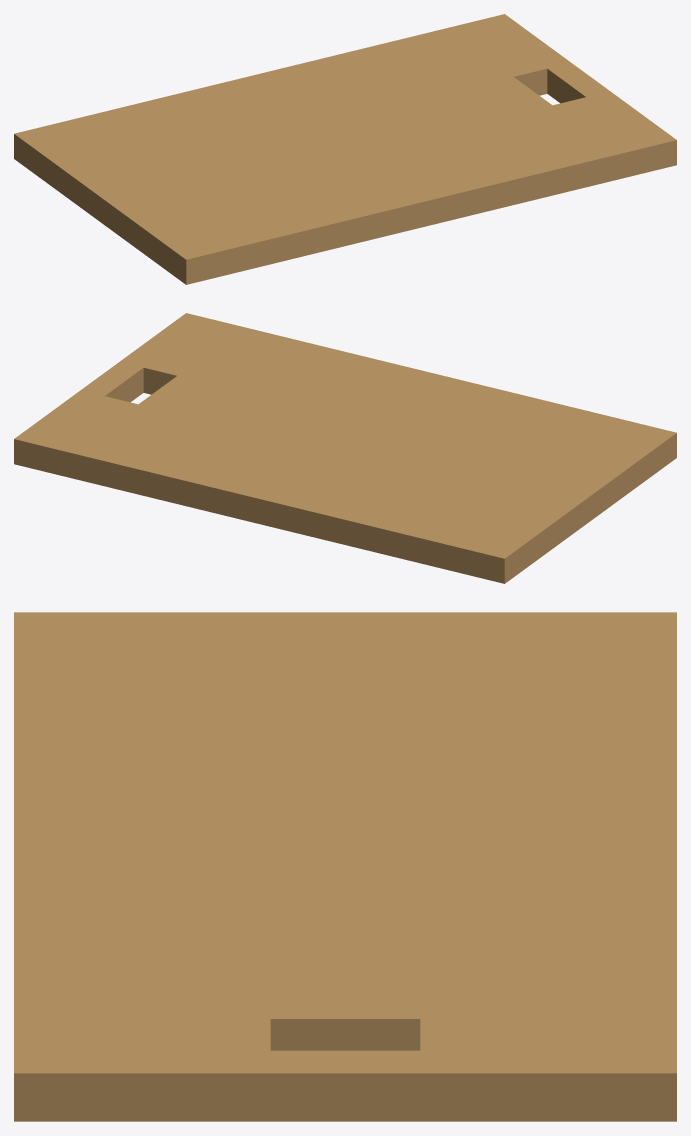
Rendered from cutting_board.glb.
3 views of the same model, one above another, from view 1: azimuth 30°, elevation 25°; view 2: azimuth 150°, elevation 25°; view 3: azimuth 270°, elevation 25° (orthographic). The views are drawn at different scales.
Parts seen in each view (by area): view 1: cutting_board:compound; view 2: cutting_board:compound; view 3: cutting_board:compound.
Boxes of the visible parts, x1,y1,x2,y2 form: cutting_board:compound: [14, 14, 676, 284]; cutting_board:compound: [14, 313, 676, 583]; cutting_board:compound: [14, 612, 676, 1121].
Size of the model in its own units: 0.408 by 0.02 by 0.248.
